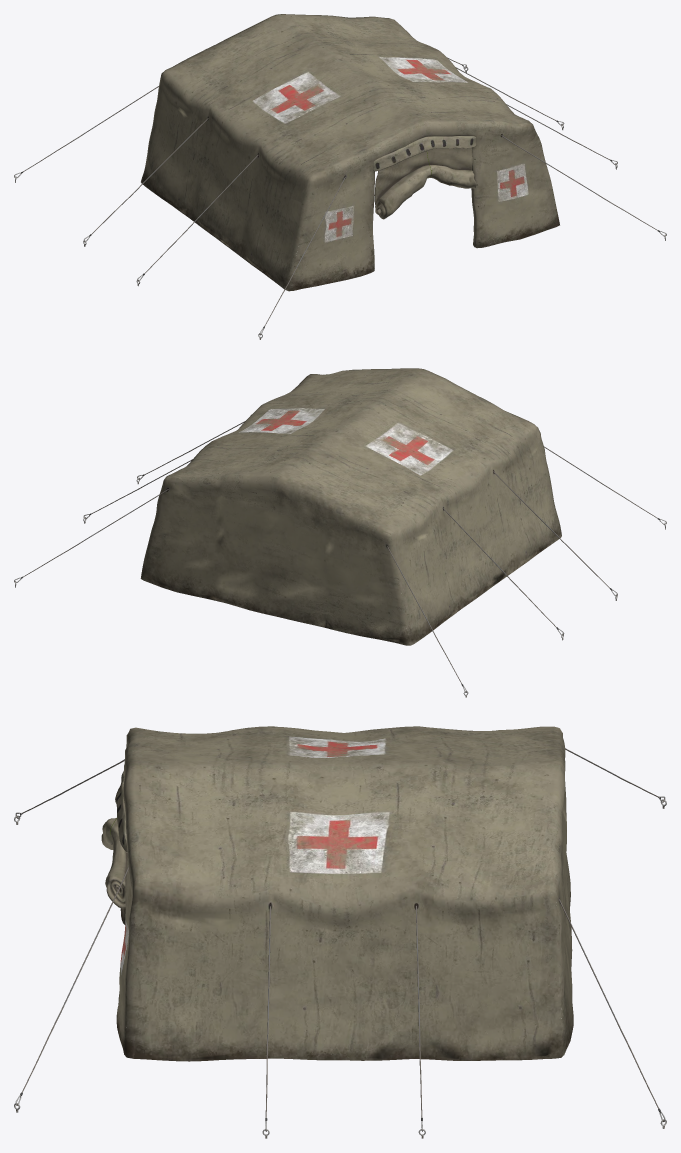
The model's file is medical_tent.glb.
3 renders of one model, top to bottom at view 1: azimuth 30°, elevation 25°; view 2: azimuth 150°, elevation 25°; view 3: azimuth 270°, elevation 25°, orthographic. The views are drawn at different scales.
Parts seen in each view (by area): view 1: Tent_High_Tent2_UDIM_1001_0, Door_Roll_High_Tent2_UDIM_1001_0, Door_Cover_Tent2_UDIM_1001_0; view 2: Tent_High_Tent2_UDIM_1001_0; view 3: Tent_High_Tent2_UDIM_1001_0, Door_Roll_High_Tent2_UDIM_1001_0.
Boxes of the visible parts, x1,y1,x2,y2 form: Tent_High_Tent2_UDIM_1001_0: (141, 14, 559, 291); Door_Roll_High_Tent2_UDIM_1001_0: (374, 147, 476, 219); Door_Cover_Tent2_UDIM_1001_0: (373, 135, 476, 171); Tent_High_Tent2_UDIM_1001_0: (140, 368, 561, 645); Tent_High_Tent2_UDIM_1001_0: (116, 726, 573, 1061); Door_Roll_High_Tent2_UDIM_1001_0: (101, 818, 127, 908).
Bounding box in the file's own units: 9 × 2.51 × 7.27.
Materials: 2 (2 with a texture image).
